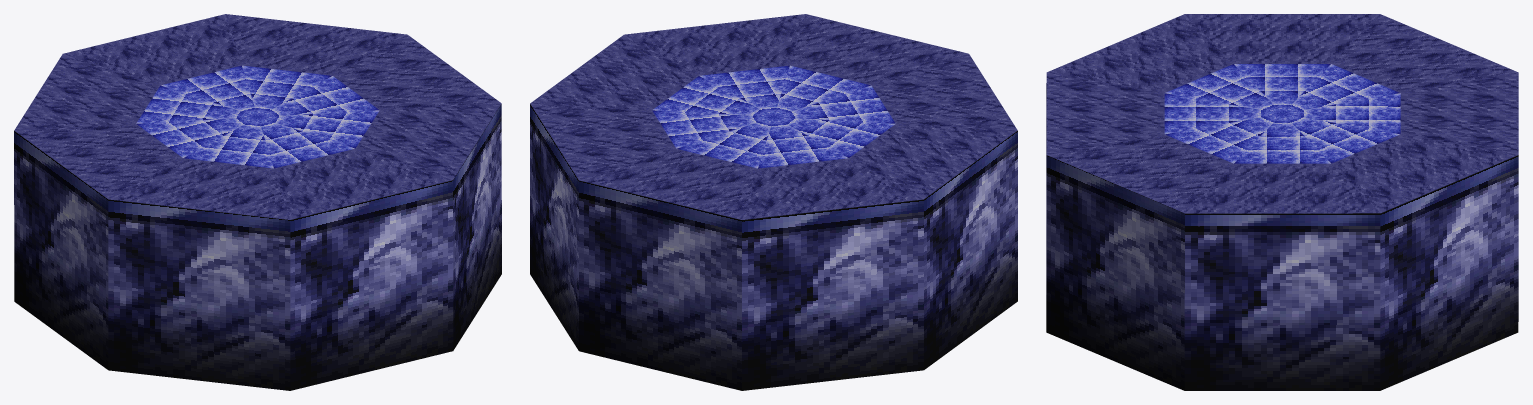
Rendered from Stage 1.fbx.
The picture shows the model from 3 angles, left to right: view 1: azimuth 30°, elevation 25°; view 2: azimuth 150°, elevation 25°; view 3: azimuth 270°, elevation 25°; orthographic projection. The views are drawn at different scales.
Parts seen in each view (by area): view 1: Shape_IndexedFaceSet.000_Shape_IndexedFaceSet.152; view 2: Shape_IndexedFaceSet.000_Shape_IndexedFaceSet.152; view 3: Shape_IndexedFaceSet.000_Shape_IndexedFaceSet.152.
Part boxes in pixels (x1,y1,x2,y2): Shape_IndexedFaceSet.000_Shape_IndexedFaceSet.152: (14, 14, 501, 390); Shape_IndexedFaceSet.000_Shape_IndexedFaceSet.152: (530, 14, 1017, 390); Shape_IndexedFaceSet.000_Shape_IndexedFaceSet.152: (1046, 14, 1518, 390).
Bounding box in the file's own units: 568 × 235 × 568.
